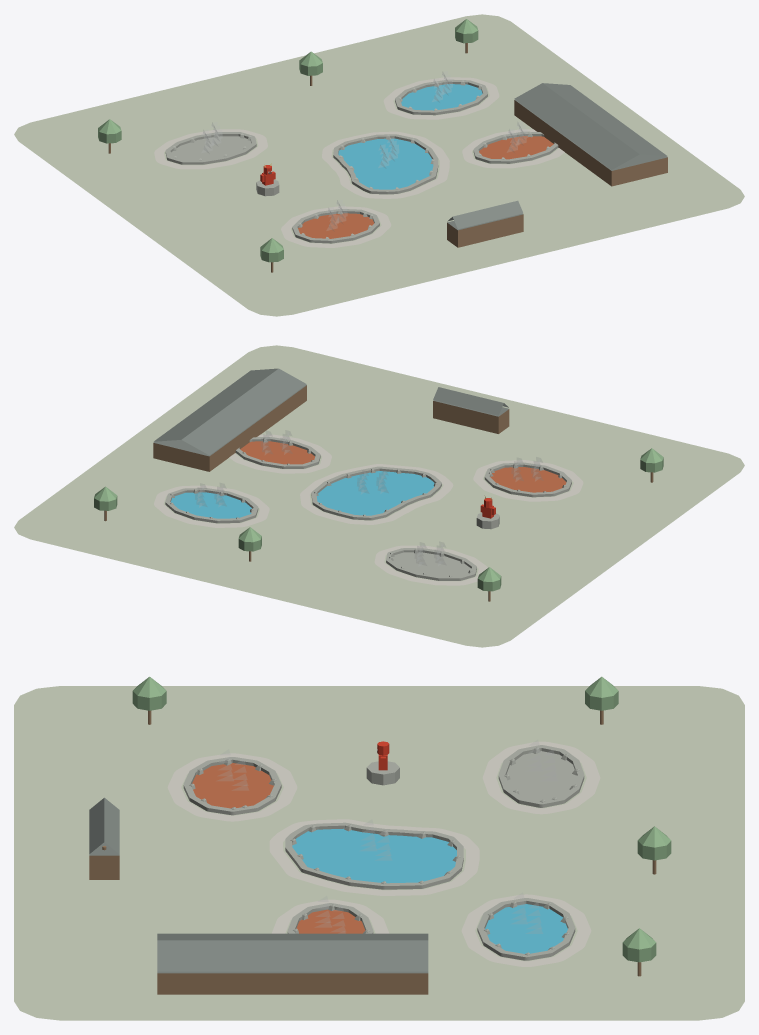
3 views of the same model, one above another, from view 1: azimuth 30°, elevation 25°; view 2: azimuth 150°, elevation 25°; view 3: azimuth 270°, elevation 25° (orthographic). The views are drawn at different scales.
Parts seen in each view (by area): view 1: kamado-jigoku; view 2: kamado-jigoku; view 3: kamado-jigoku.
Part boxes in pixels (box(x1,y1,x2,y2)): kamado-jigoku: box(14, 14, 744, 316); kamado-jigoku: box(14, 345, 744, 647); kamado-jigoku: box(14, 676, 744, 1020).
Bounding box in the file's own units: 105 × 7 × 97.
